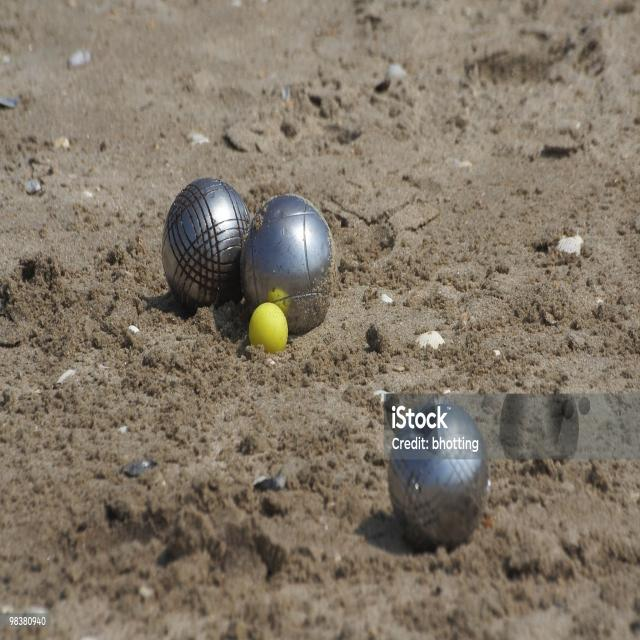hatball: (238, 291, 292, 364)
petanque: (386, 397, 493, 566), (237, 185, 343, 345), (154, 172, 252, 328)
